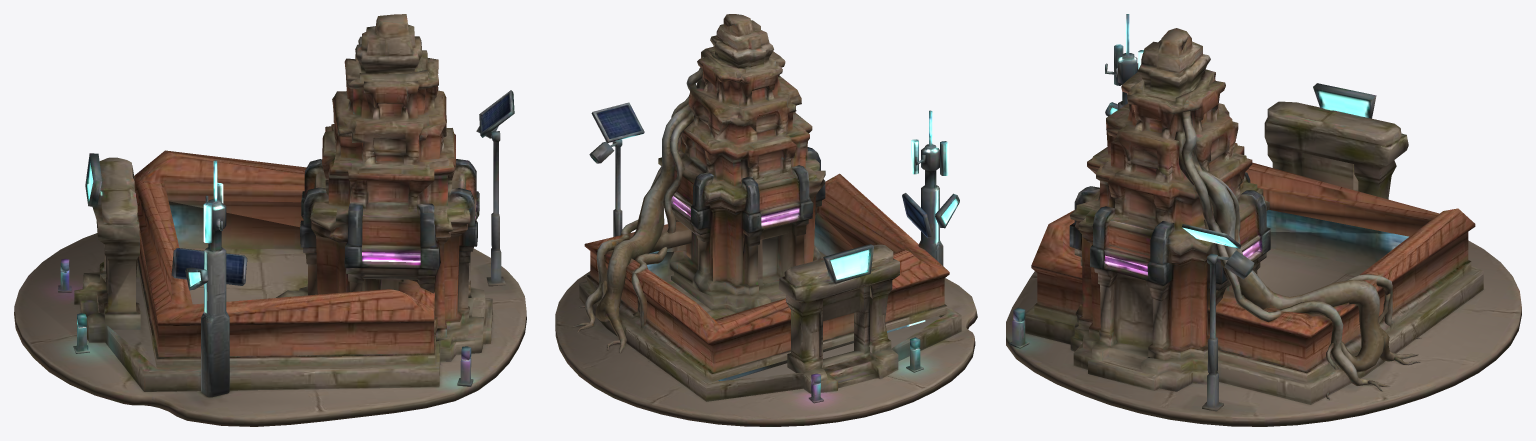
The model's file is prasat_ruin.glb.
3 renders of one model, left to right at view 1: azimuth 30°, elevation 25°; view 2: azimuth 150°, elevation 25°; view 3: azimuth 270°, elevation 25°, orthographic. The views are drawn at different scales.
Parts seen in each view (by area): view 1: Body, Glow; view 2: Body, Glow; view 3: Body, Glow.
Boxes of the visible parts, box(x1,y1,x2,y2) form: Body: box(14, 14, 526, 426); Glow: box(86, 157, 475, 314); Body: box(555, 14, 977, 426); Glow: box(592, 111, 958, 322); Body: box(1006, 14, 1521, 426); Glow: box(1104, 15, 1392, 275).
Size of the model in its own units: 14 by 9.62 by 14.
Materials: 2 (2 with a texture image).
